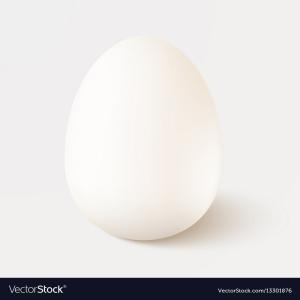Egg: (63, 32, 226, 246)
